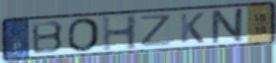B: (30, 20, 66, 56)
H: (101, 13, 140, 53)
K: (178, 11, 206, 45)
N: (209, 6, 248, 46)
O: (66, 17, 102, 53)
Z: (139, 13, 174, 48)
